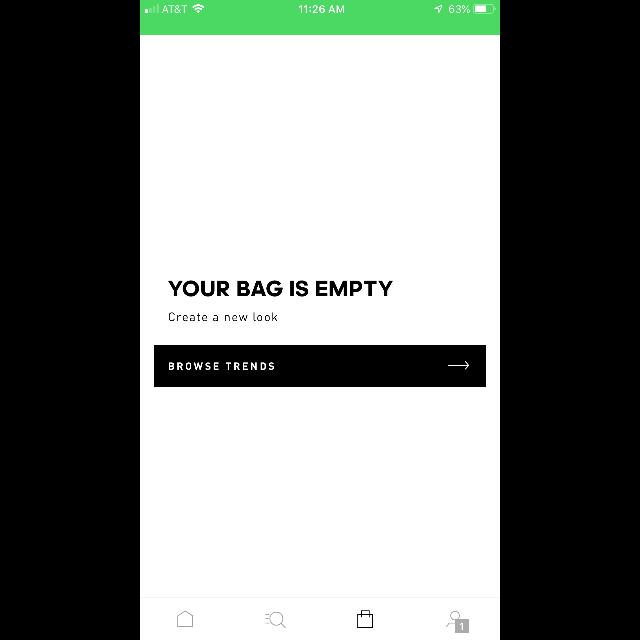icon: (446, 611, 469, 633), (266, 612, 286, 628), (358, 610, 372, 628), (178, 611, 192, 627), (448, 362, 468, 370)
text: (168, 280, 392, 296), (169, 312, 277, 322)
textbutton: (154, 345, 486, 387)
uppertaskbar: (140, 0, 500, 14)
